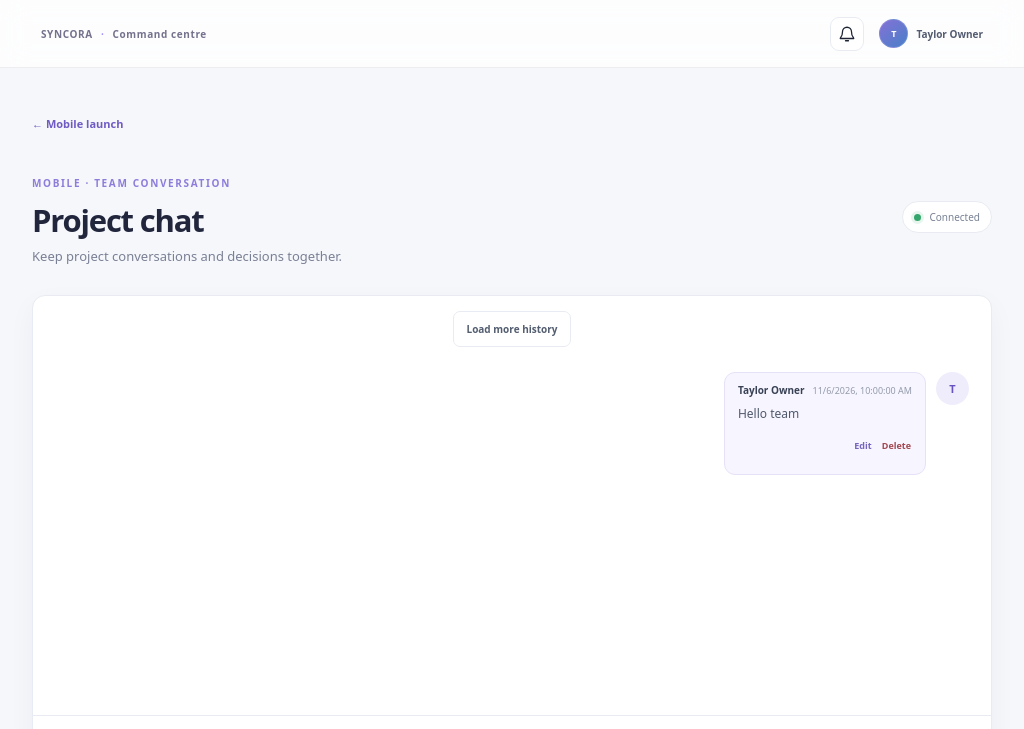
project chat page › loads the next history page without duplicating overlapping messages
Expected: the text "Hello team" is shown, [738, 405, 799, 422]
Click the button "Load more history".
click(512, 329)  # box [454, 311, 570, 347]
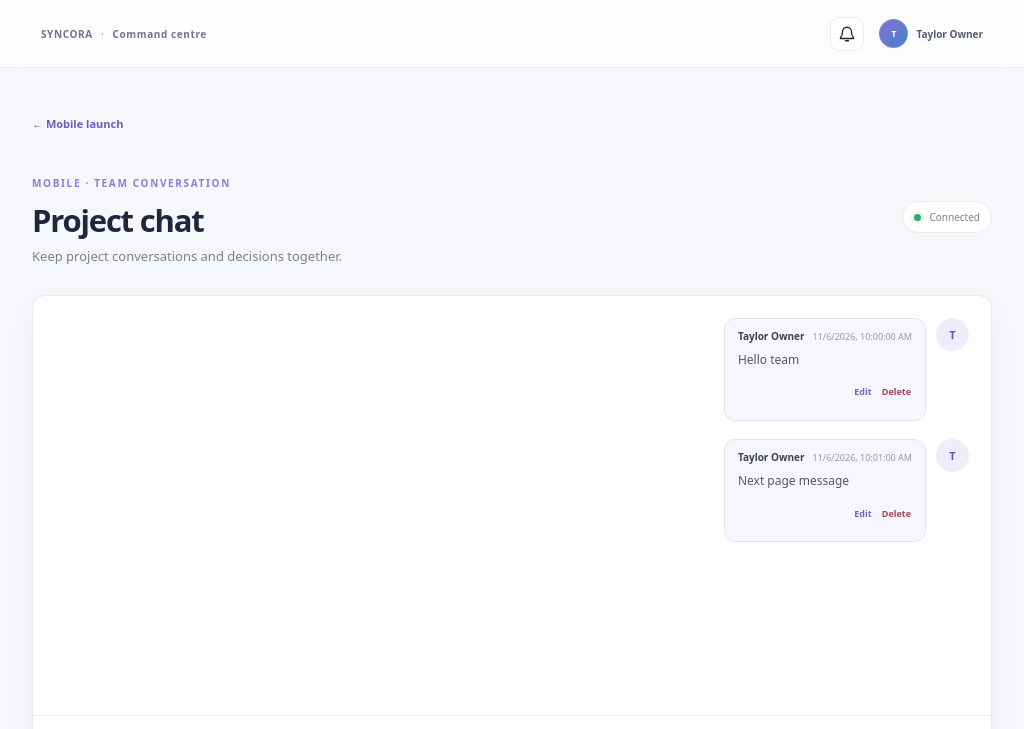
Now the text "Next page message" is shown, box [738, 472, 849, 489]
Now the text "Hello team" is shown once, box [738, 351, 799, 368]
